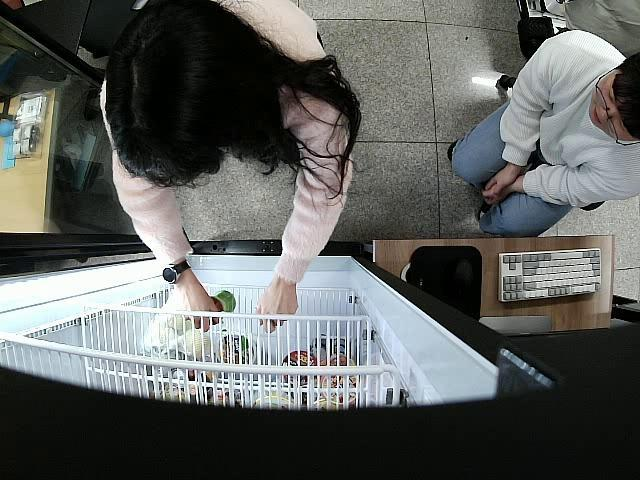19_17cha: (198, 290, 236, 329)
